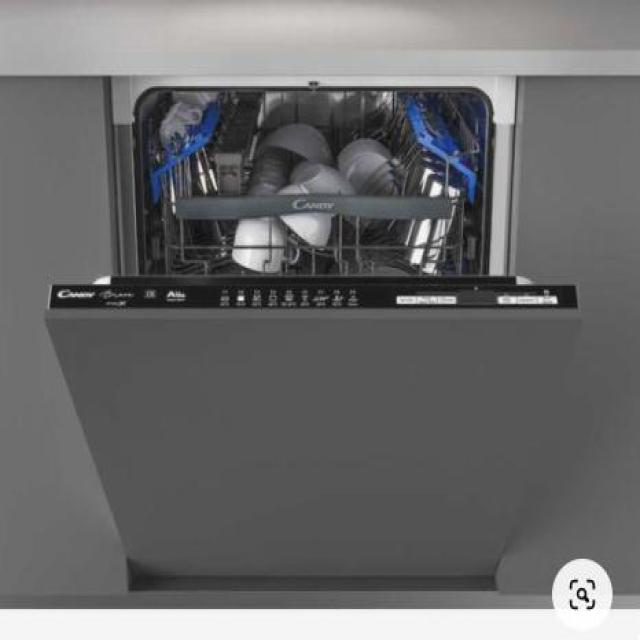dishwasher: (47, 70, 580, 604)
